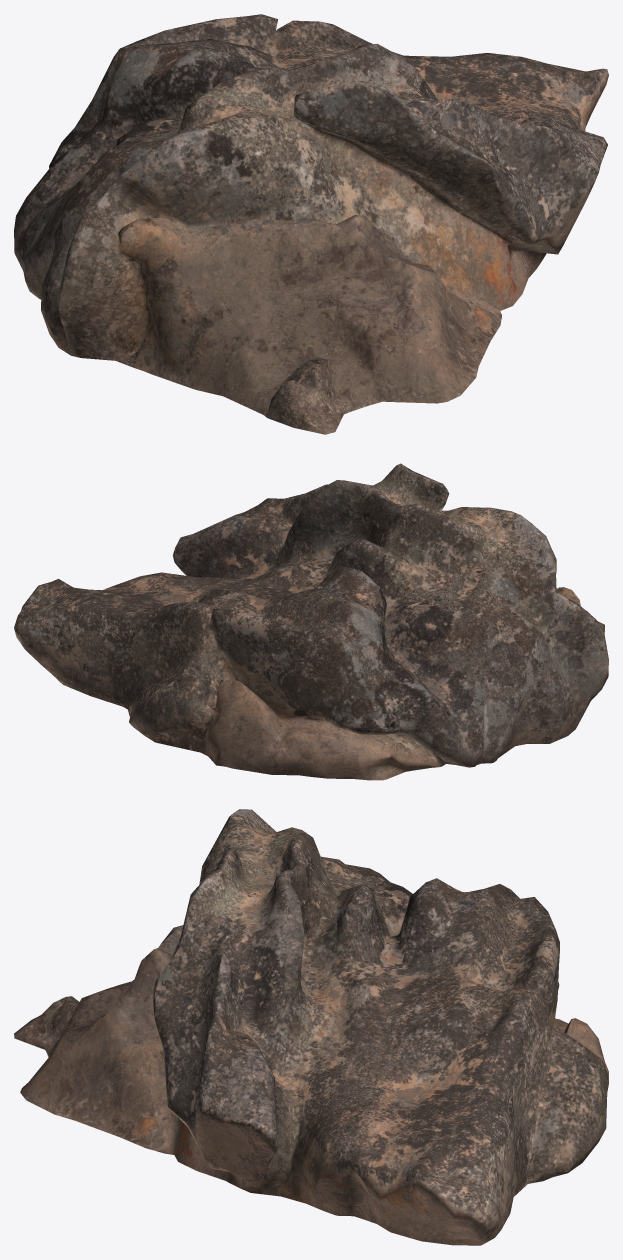
Rendered from SM_yetgfe2_tier_2.gltf.
3 renders of one model, top to bottom at view 1: azimuth 30°, elevation 25°; view 2: azimuth 150°, elevation 25°; view 3: azimuth 270°, elevation 25°, orthographic. The views are drawn at different scales.
Parts seen in each view (by area): view 1: yetgfe2_LOD2_TIER2_000; view 2: yetgfe2_LOD2_TIER2_000; view 3: yetgfe2_LOD2_TIER2_000.
Part boxes in pixels (x1=…): yetgfe2_LOD2_TIER2_000: x1=14, y1=14, x2=608, y2=434; yetgfe2_LOD2_TIER2_000: x1=14, y1=463, x2=608, y2=780; yetgfe2_LOD2_TIER2_000: x1=14, y1=809, x2=608, y2=1245.
Size of the model in its own units: 0.8477 by 0.3024 by 0.7041.
Materials: 1 (1 with a texture image).
